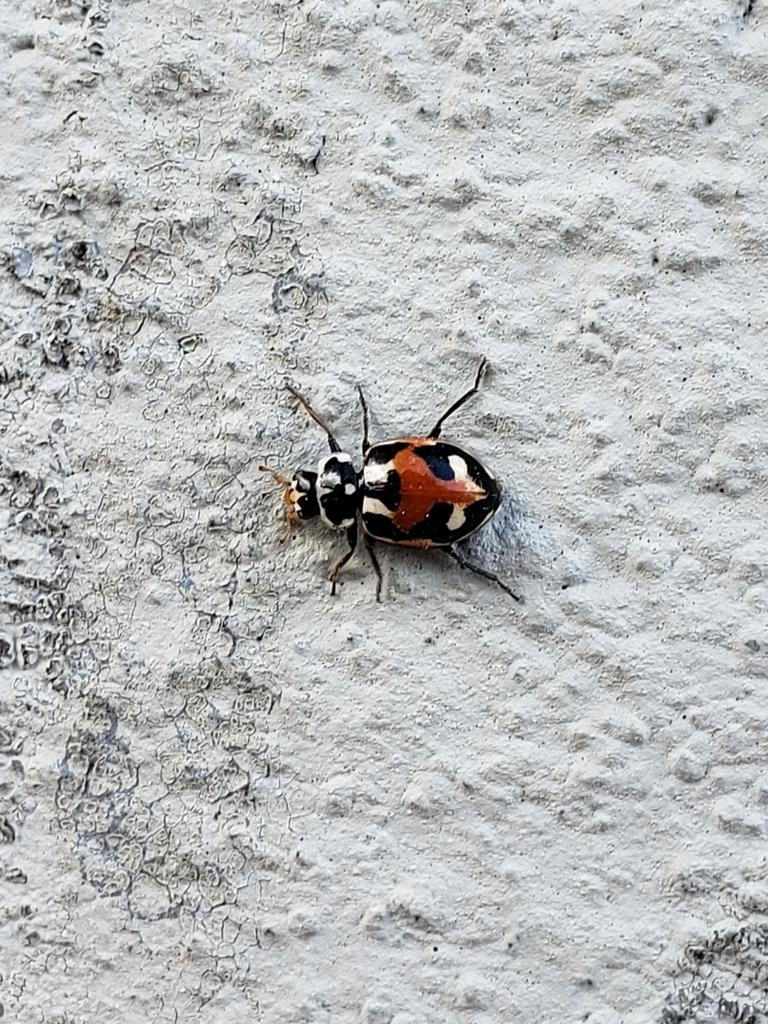ladybug: (261, 354, 529, 609)
